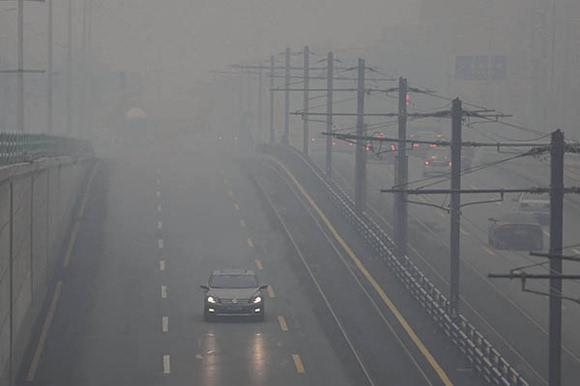car: (200, 268, 268, 322), (488, 213, 543, 254), (512, 188, 556, 226), (423, 145, 457, 177), (412, 131, 442, 157)
